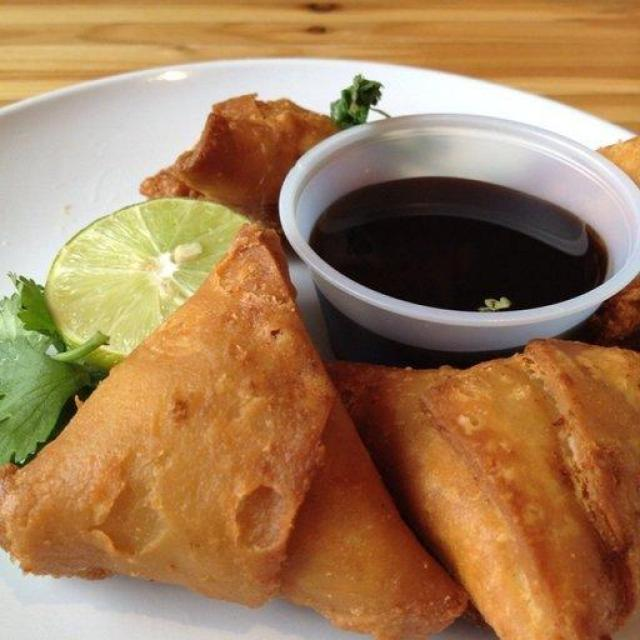food_waste: (2, 91, 640, 640)
